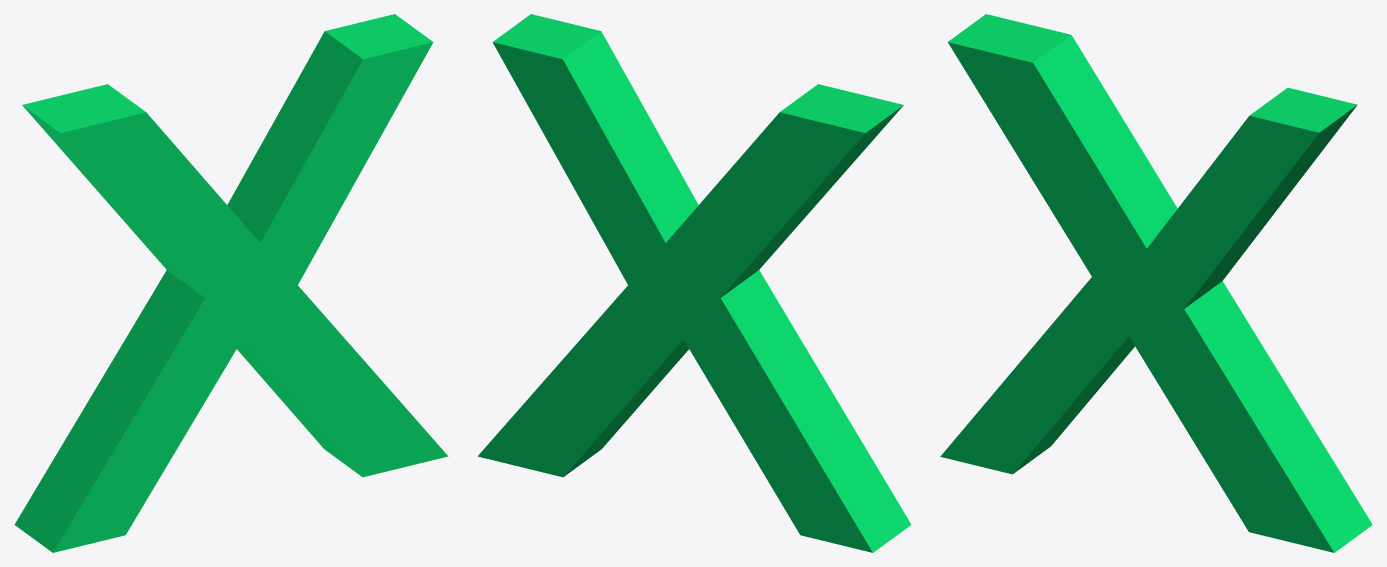
The model's file is timesz (1).fbx.
3 views of the same model, side by side, from view 1: azimuth 30°, elevation 25°; view 2: azimuth 150°, elevation 25°; view 3: azimuth 330°, elevation 25° (orthographic).
Visible parts, largest first — view 1: typeMesh2; view 2: typeMesh2; view 3: typeMesh2.
Boxes of the visible parts, x1,y1,x2,y2 form: typeMesh2: (14,14,448,552); typeMesh2: (477,14,911,552); typeMesh2: (940,14,1372,552).
Size of the model in its own units: 8.9 by 8.98 by 1.5.
